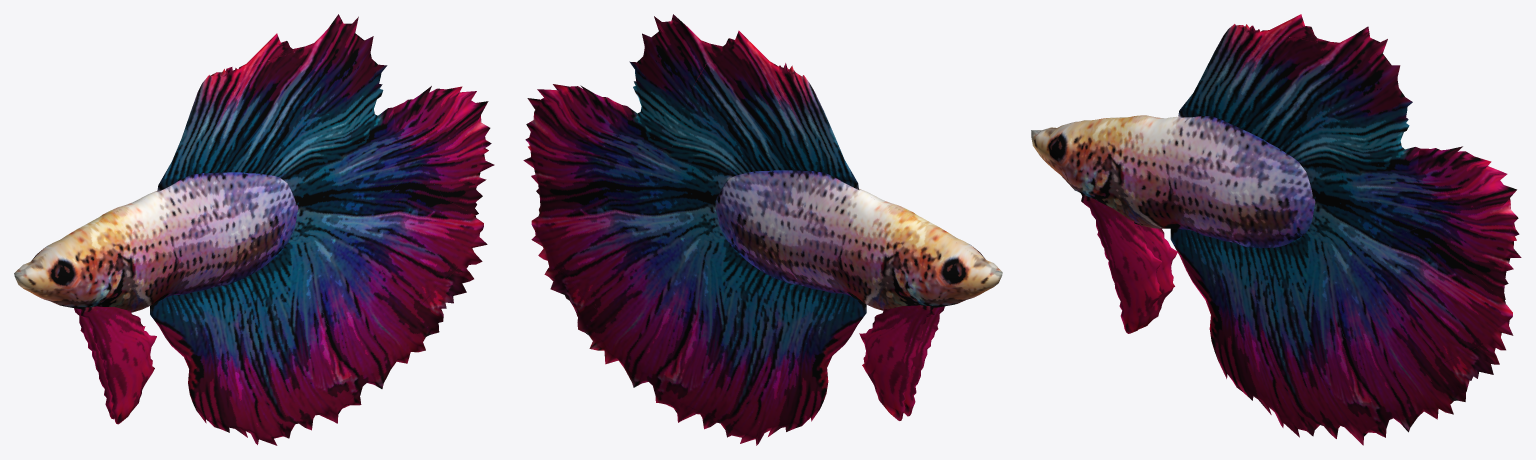
Rendered from pez_beta.fbx.
3 renders of one model, left to right at view 1: azimuth 30°, elevation 25°; view 2: azimuth 150°, elevation 25°; view 3: azimuth 330°, elevation 25°, orthographic. The views are drawn at different scales.
Parts seen in each view (by area): view 1: body.1; view 2: body.1; view 3: body.1.
Boxes of the visible parts, x1,y1,x2,y2 form: body.1: (14, 14, 494, 445); body.1: (523, 14, 1002, 445); body.1: (1031, 14, 1521, 445).
Size of the model in its own units: 517 by 428 by 65.74.
Materials: 1 (1 with a texture image).
